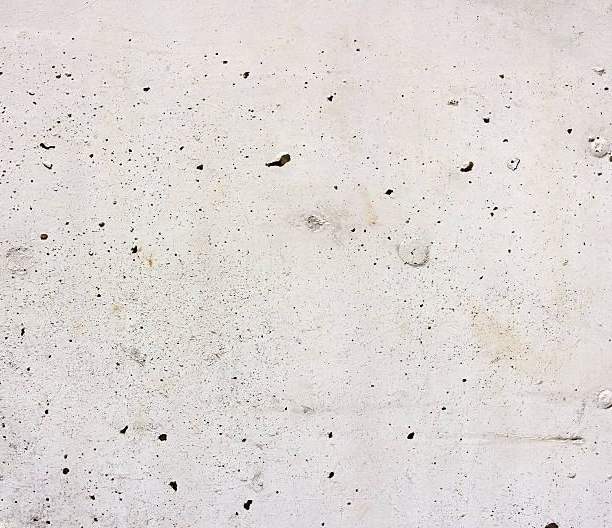Spalling: (1, 1, 612, 528)
